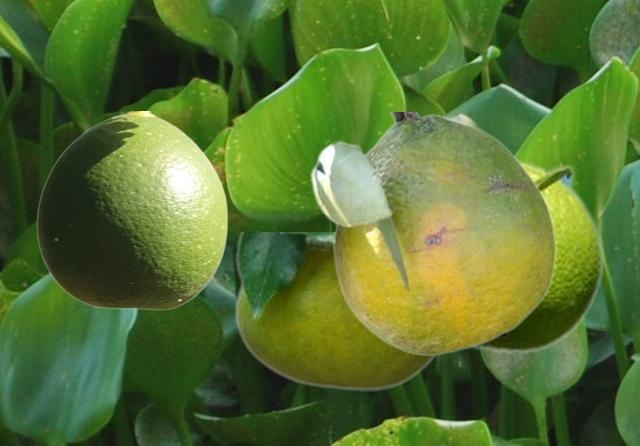dalandan: (309, 112, 556, 355), (36, 111, 227, 309), (235, 232, 439, 390), (471, 156, 605, 354)
